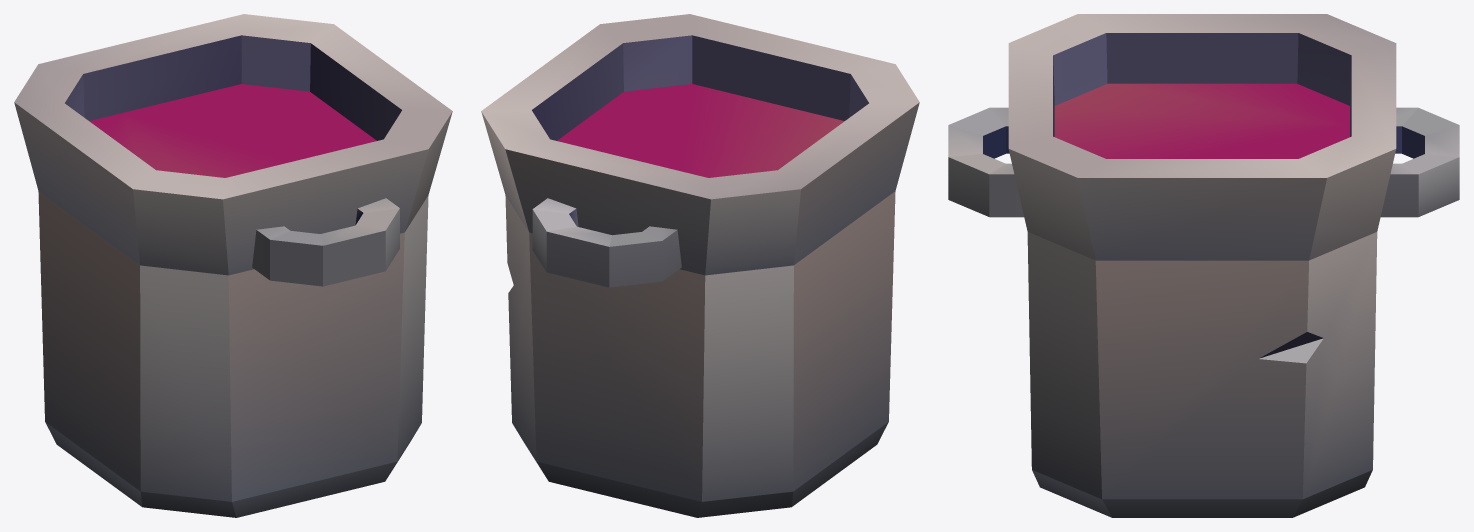
File: canister.fbx
The picture shows the model from 3 angles, left to right: view 1: azimuth 30°, elevation 25°; view 2: azimuth 150°, elevation 25°; view 3: azimuth 270°, elevation 25°; orthographic projection. The views are drawn at different scales.
Visible parts, largest first — view 1: Cube.001; view 2: Cube.001; view 3: Cube.001.
Boxes of the visible parts, bbox=[...] form: Cube.001: bbox=[14, 14, 452, 517]; Cube.001: bbox=[481, 14, 919, 517]; Cube.001: bbox=[948, 14, 1459, 517].
Bounding box in the file's own units: 19.33 × 19.44 × 25.47.
